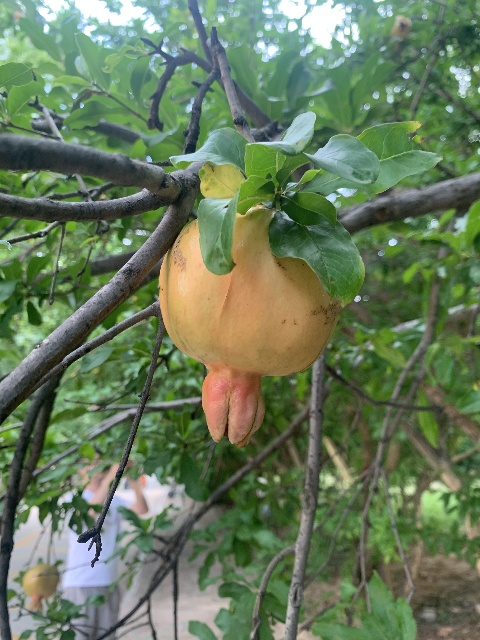mid-growth: (156, 200, 339, 452), (21, 563, 60, 613)
